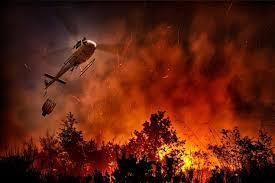fire: (156, 136, 222, 179)
